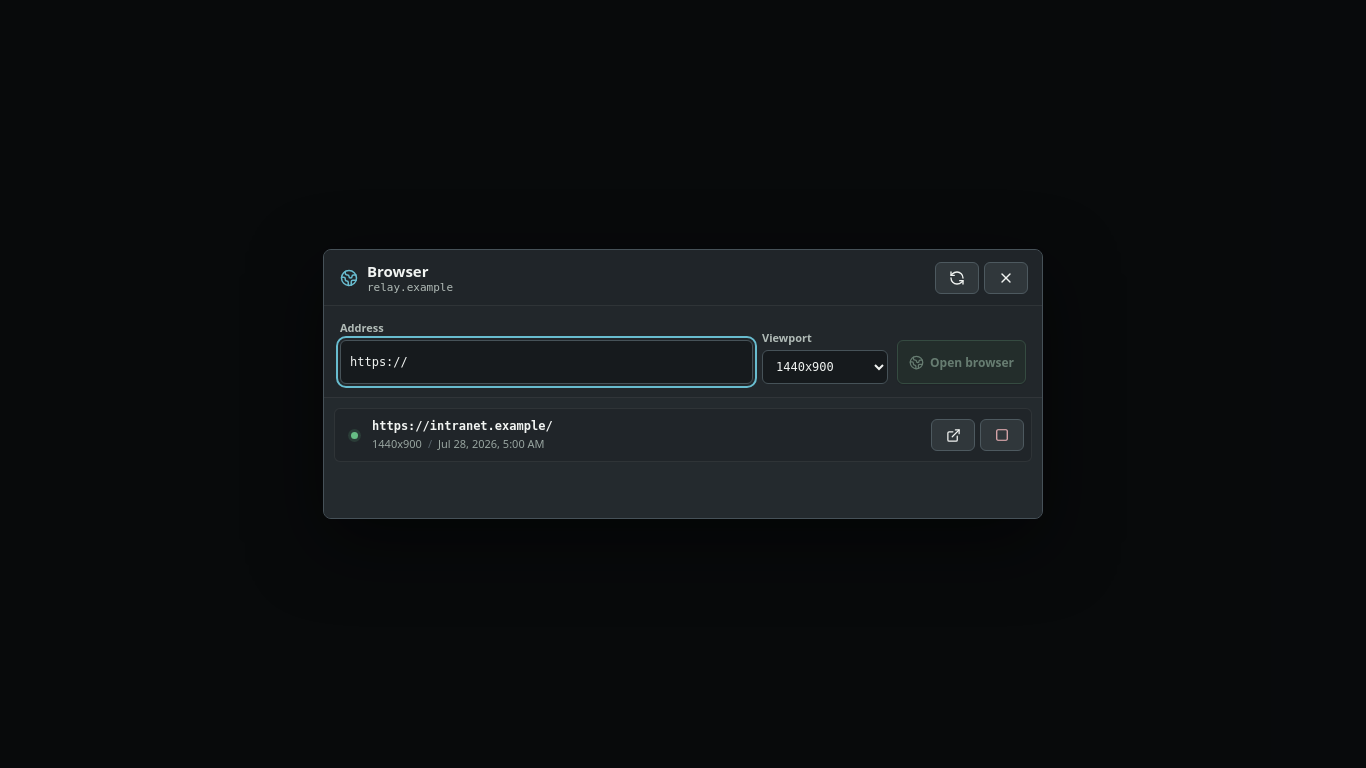
BrowserWorkspaceDialog › requires confirmation before stopping a browser session
Expected: the text "https://intranet.example/" is shown, 372,419 -> 553,433
Click the button named "Stop https://intranet.example/" at (1002, 435), box 980,419 -> 1024,451
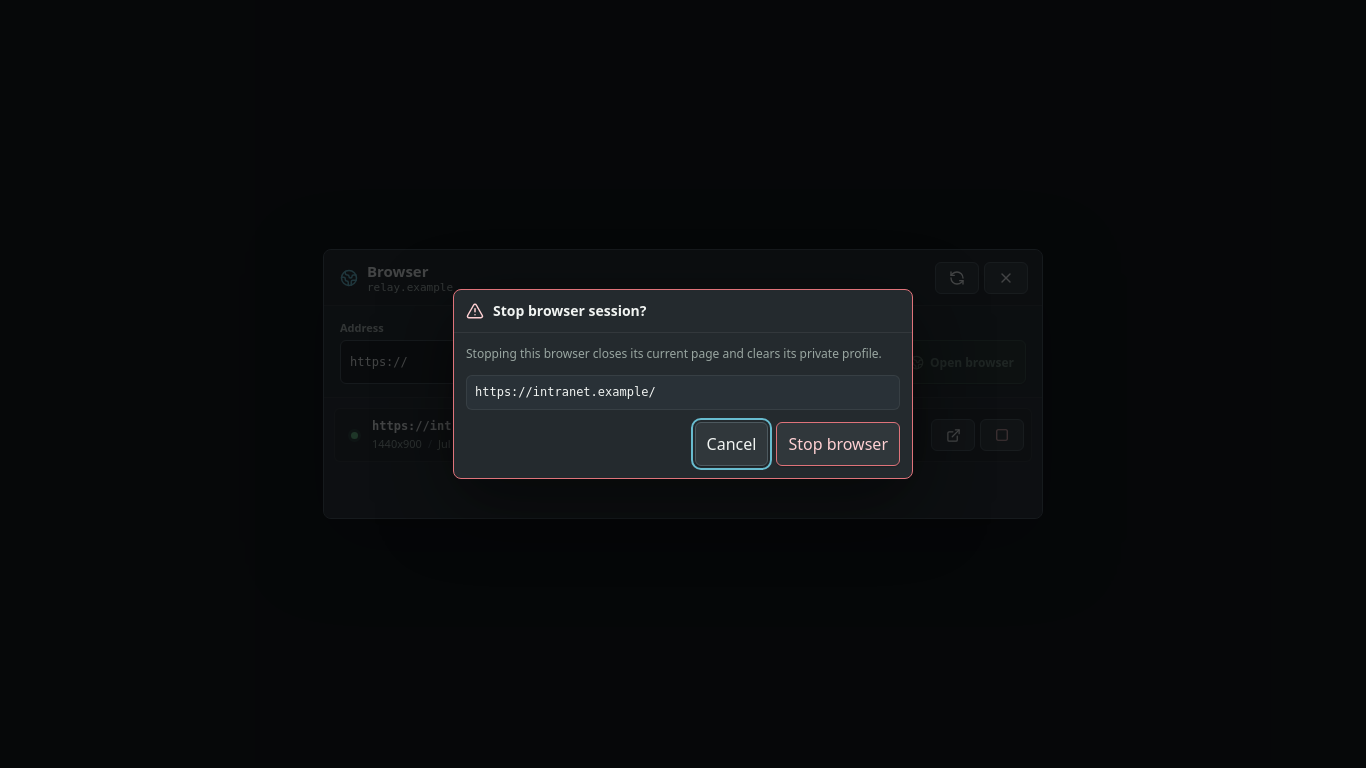
Expected: the dialog "Stop browser session?" is shown, 453,289 -> 913,479
Click the button "Stop browser" at (838, 444), box 776,422 -> 900,466
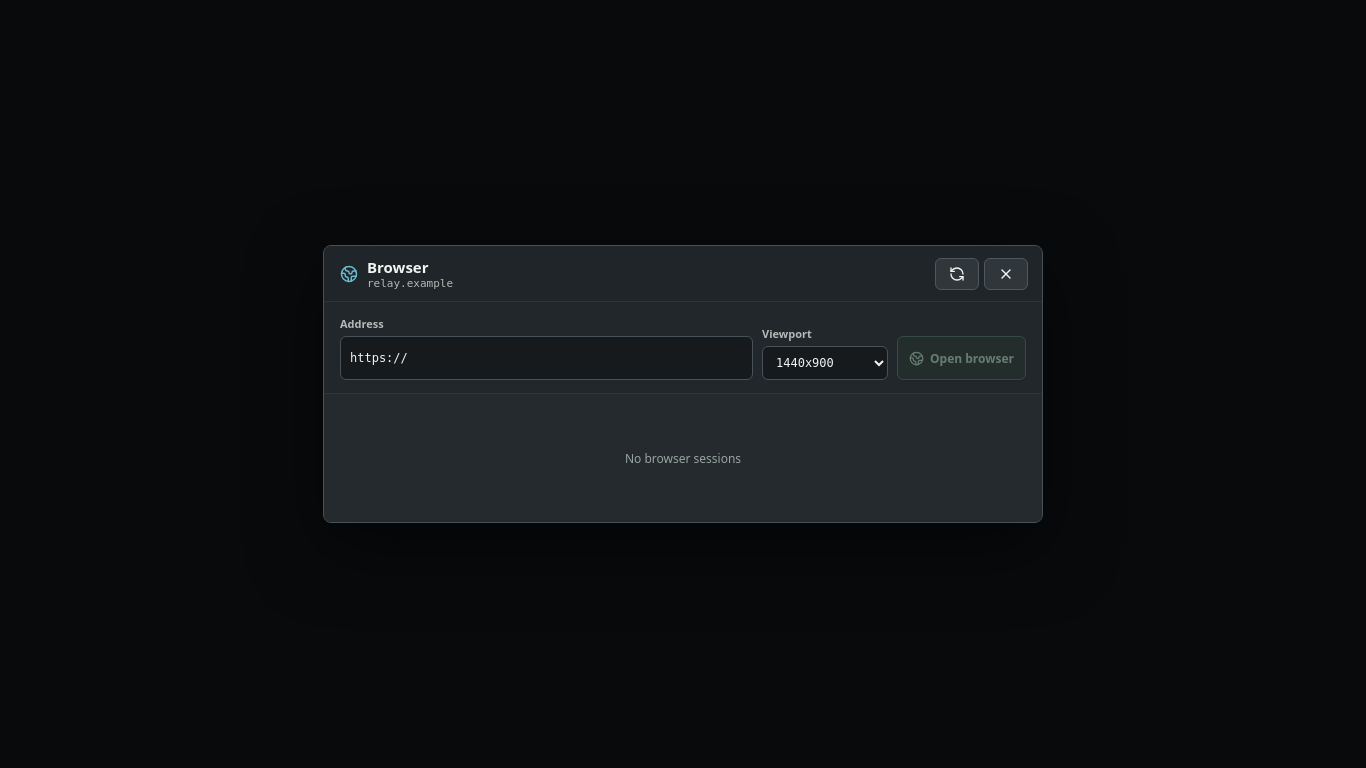
Expected: the text "https://intranet.example/" is gone
